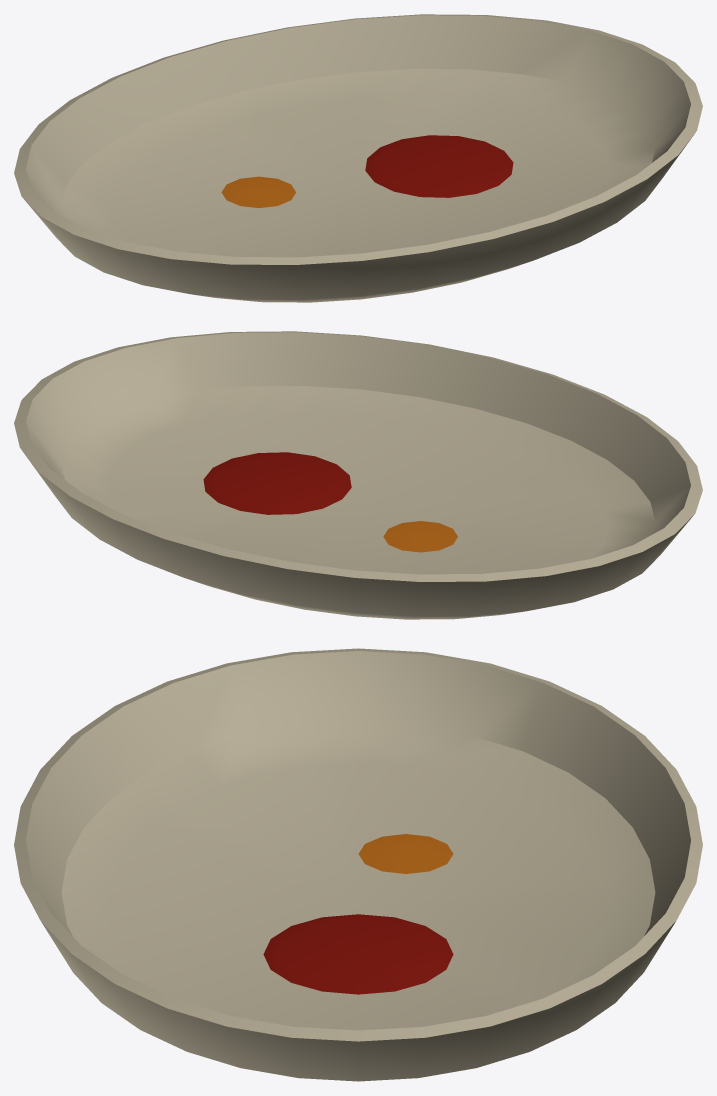
Rendered from food-baked-pork-rice-s3.glb.
3 views of the same model, one above another, from view 1: azimuth 30°, elevation 25°; view 2: azimuth 150°, elevation 25°; view 3: azimuth 270°, elevation 25° (orthographic). The views are drawn at different scales.
Visible parts, largest first — view 1: dish__ceramic, sauce__sauce, cheese__food; view 2: dish__ceramic, sauce__sauce, cheese__food; view 3: dish__ceramic, sauce__sauce, cheese__food.
Part boxes in pixels (x1=…): dish__ceramic: x1=14, y1=14, x2=702, y2=302; sauce__sauce: x1=365, y1=135, x2=513, y2=197; cheese__food: x1=221, y1=176, x2=295, y2=207; dish__ceramic: x1=14, y1=331, x2=702, y2=619; sauce__sauce: x1=203, y1=452, x2=351, y2=514; cheese__food: x1=383, y1=521, x2=457, y2=552; dish__ceramic: x1=14, y1=648, x2=702, y2=1081; sauce__sauce: x1=263, y1=914, x2=453, y2=994; cheese__food: x1=358, y1=834, x2=453, y2=873.
Bounding box in the file's own units: 0.3915 × 0.042 × 0.29.
